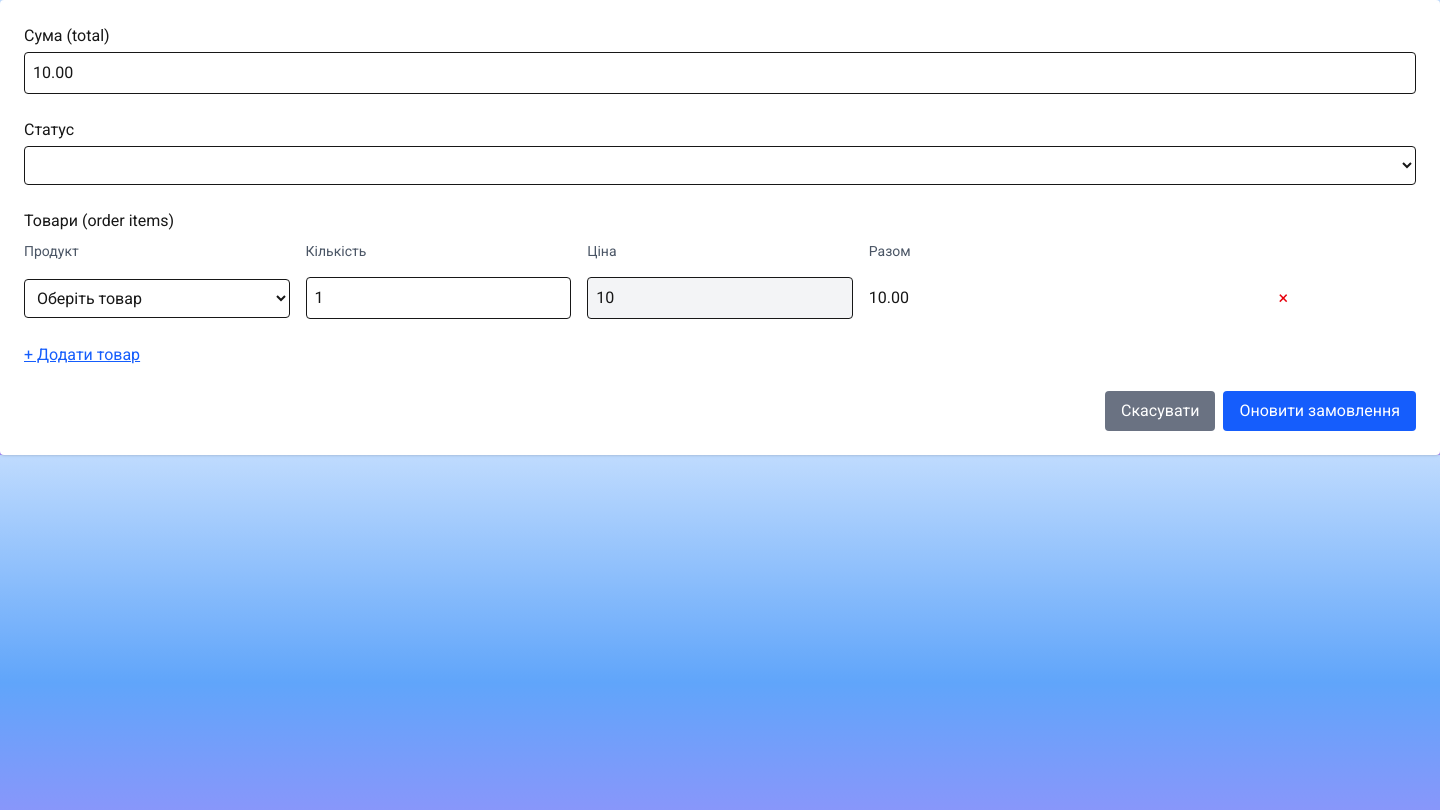
Scenario: OrderForm › оновлює кількість товару
Replace the text in the 2nd number field showing "1" with "3" at (438, 298), box [306, 277, 571, 319]
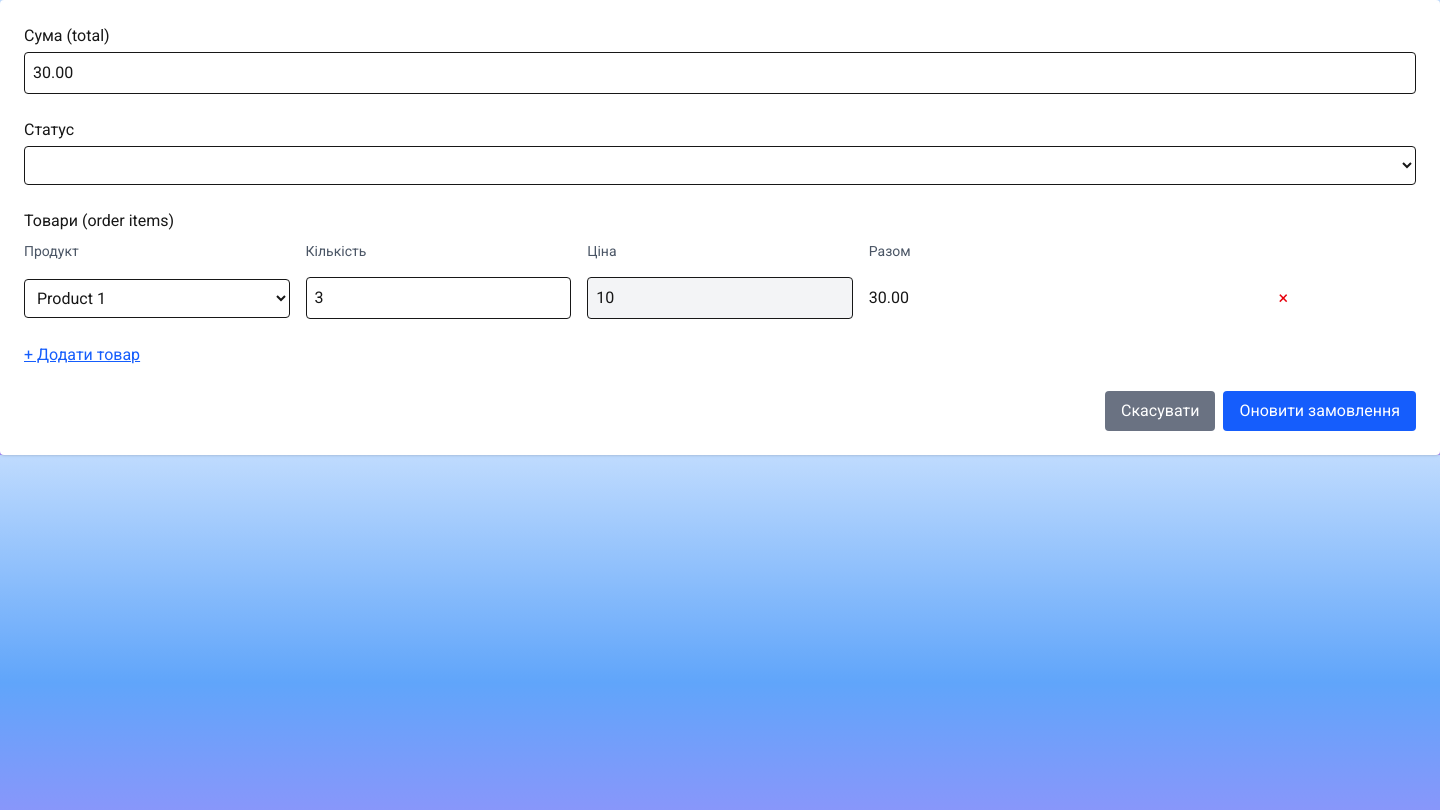
Now the number field showing "30.00" below "Сума (total)" is shown, box [24, 52, 1416, 94]
